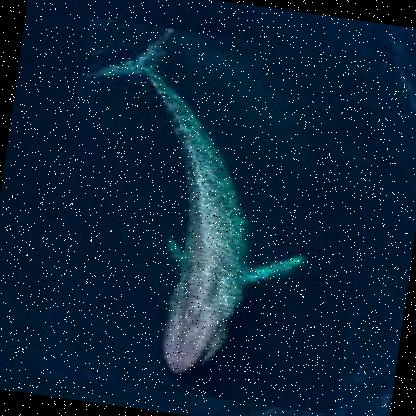blue_whale: (38, 14, 384, 414)
